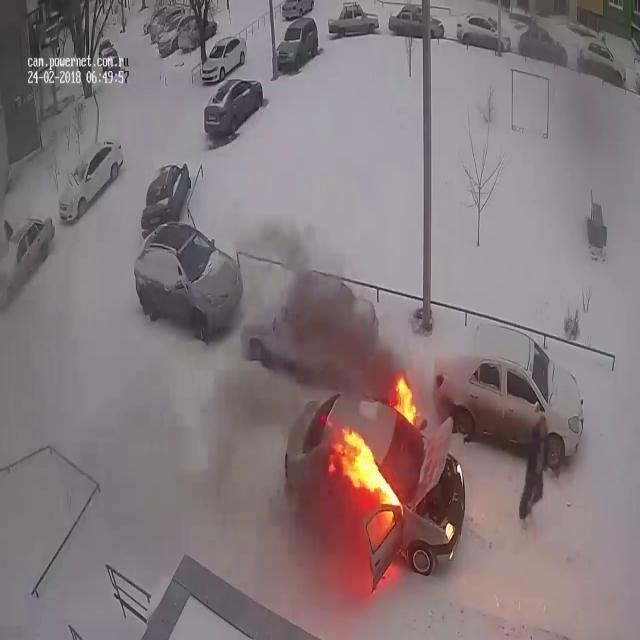Fire: (328, 422, 406, 512), (392, 369, 420, 427)
Smoke: (203, 202, 422, 412)
